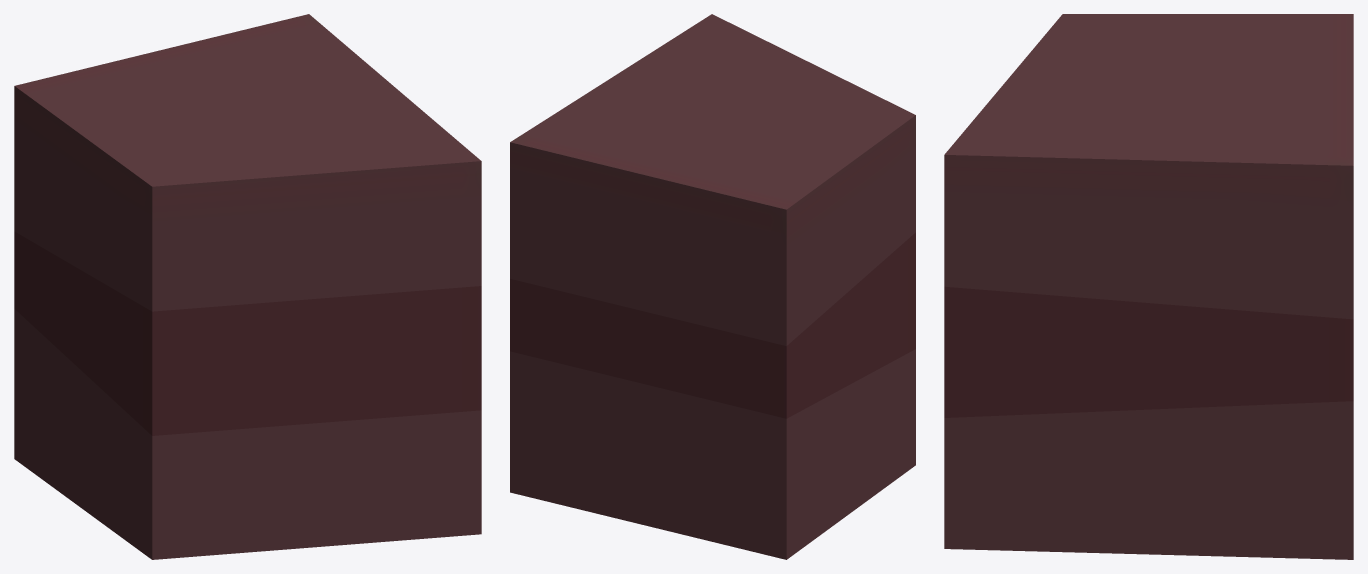
Rendered from rock.FBX.
The picture shows the model from 3 angles, left to right: view 1: azimuth 30°, elevation 25°; view 2: azimuth 150°, elevation 25°; view 3: azimuth 270°, elevation 25°; orthographic projection. The views are drawn at different scales.
Parts seen in each view (by area): view 1: rock; view 2: rock; view 3: rock.
Boxes of the visible parts, left/top/right/bottom form: rock: left=14, top=14, right=481, bottom=559; rock: left=510, top=14, right=915, bottom=559; rock: left=944, top=14, right=1353, bottom=559.
Bounding box in the file's own units: 23.46 × 26.73 × 28.39.
